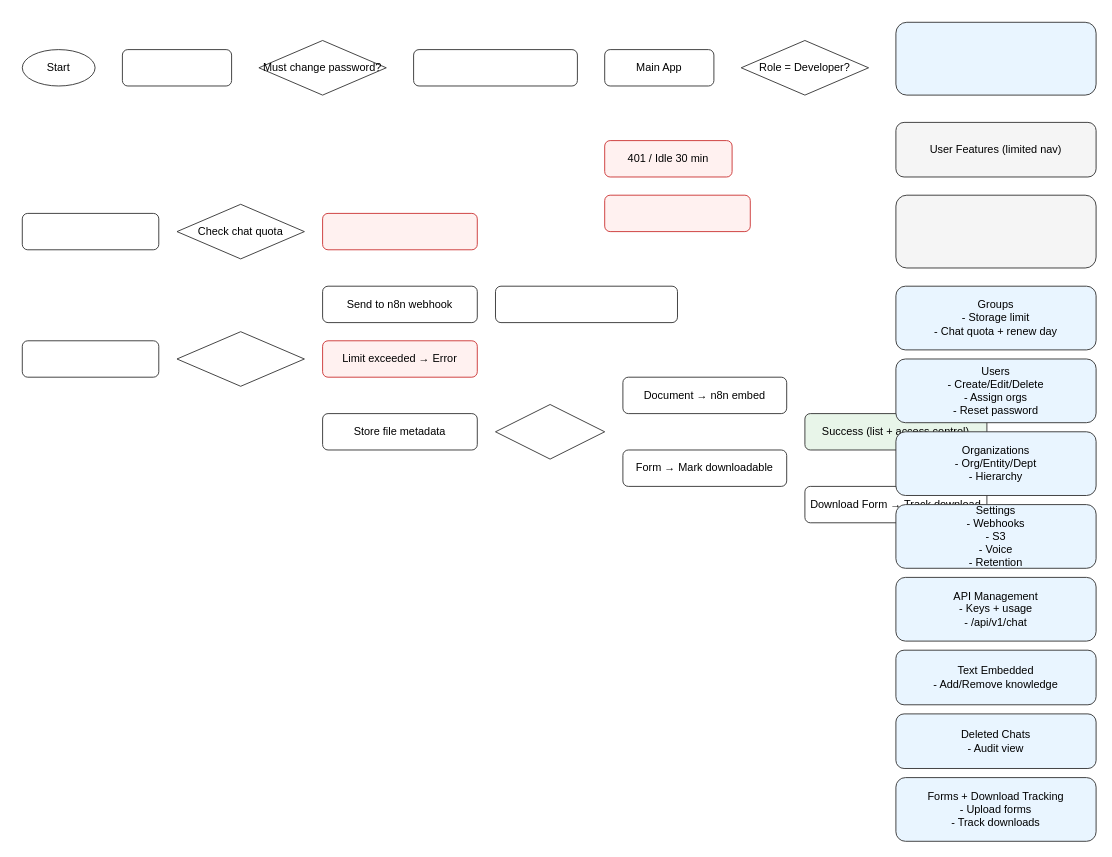
Image size: 1112x857. Some labels were removed from this diagram. The shapes that lost their labels are listed below. From the top down, each one's box as (x1, y1, x2, y2) in pixels, then its label:
(121, 49, 232, 86): Login
(413, 49, 577, 86): Change Password (first login)
(895, 21, 1096, 95): Developer Features (full nav)
(21, 212, 159, 250): Chat: Send message
(322, 212, 477, 250): Quota exceeded → Error
(604, 194, 750, 232): Logout → Login screen
(895, 194, 1096, 268): User Settings - Profile - Org hierarchy - Storage & chat usage
(495, 285, 677, 323): Save response + increment count
(21, 340, 159, 377): Files/Forms: Upload
(176, 331, 304, 386): Check storage limit
(495, 404, 605, 459): File type?
